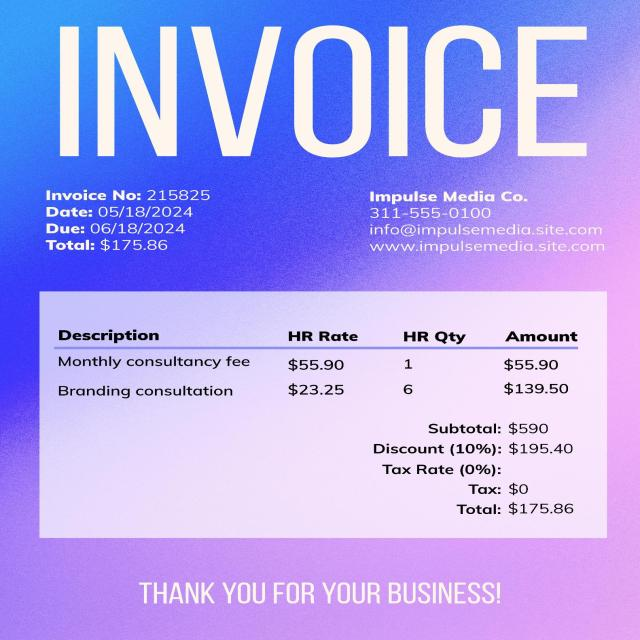paragraph: (48, 22, 601, 163), (362, 420, 590, 518), (366, 186, 620, 260), (132, 573, 515, 621), (41, 186, 218, 253)
table: (46, 301, 596, 410)
